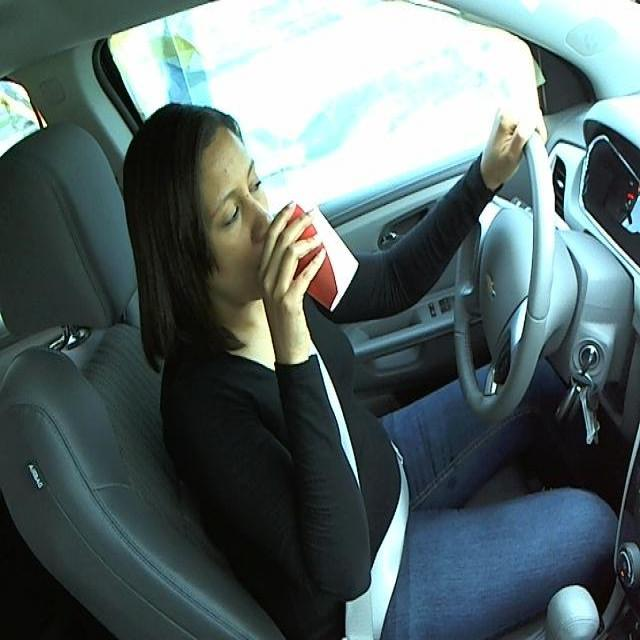drinking: (268, 192, 363, 316)
